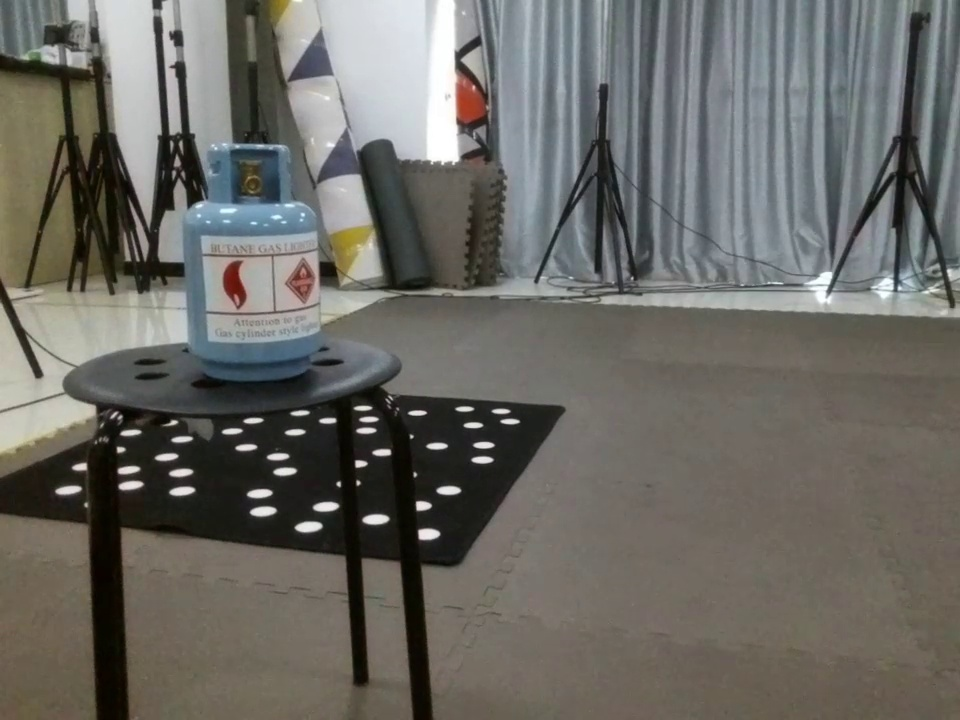gas tank: (172, 137, 335, 390)
